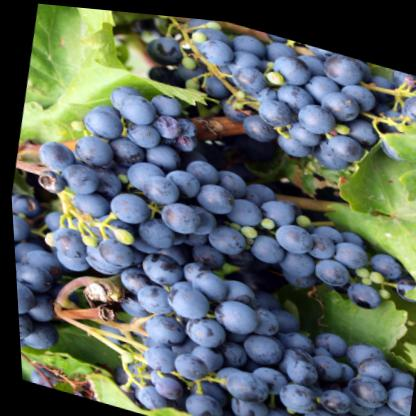--: (10, 52, 416, 366), (67, 224, 416, 416), (87, 7, 416, 196)
